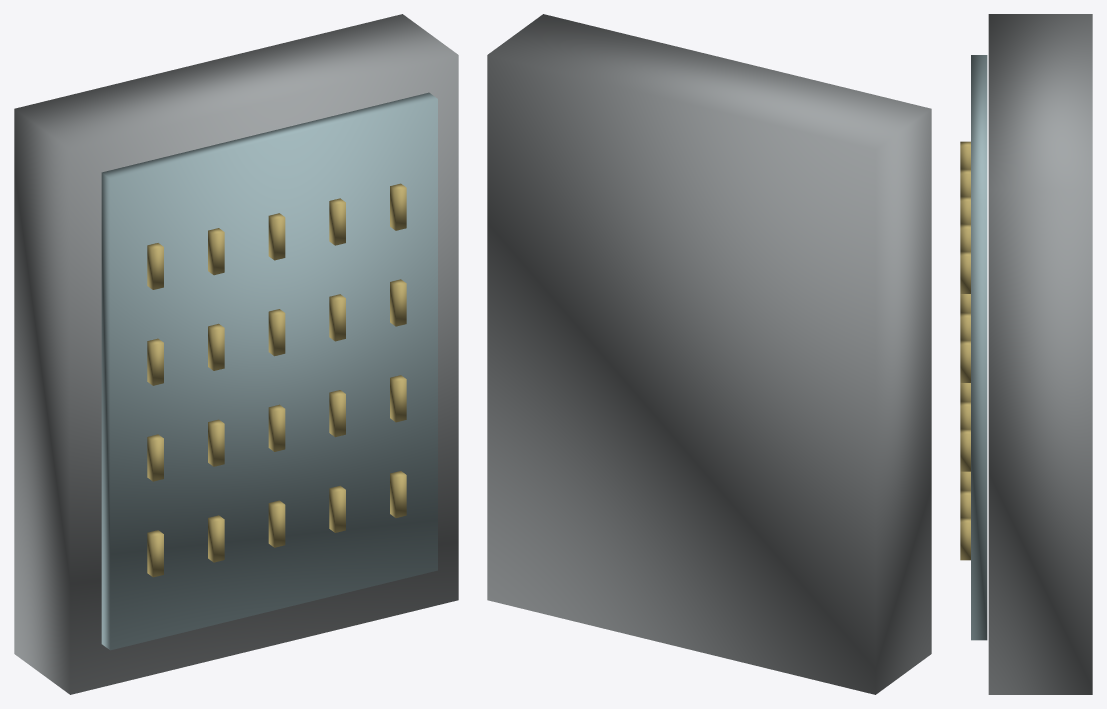
Rendered from wall_key_cabinet__tall.glb.
3 views of the same model, side by side, from view 1: azimuth 30°, elevation 25°; view 2: azimuth 150°, elevation 25°; view 3: azimuth 270°, elevation 25° (orthographic). The views are drawn at different scales.
Visible parts, largest first — view 1: world; view 2: world; view 3: world.
Part boxes in pixels (x1=…): world: x1=14, y1=14, x2=458, y2=694; world: x1=487, y1=14, x2=931, y2=694; world: x1=960, y1=14, x2=1092, y2=694.
Bounding box in the file's own units: 0.64 × 0.8584 × 0.204.
